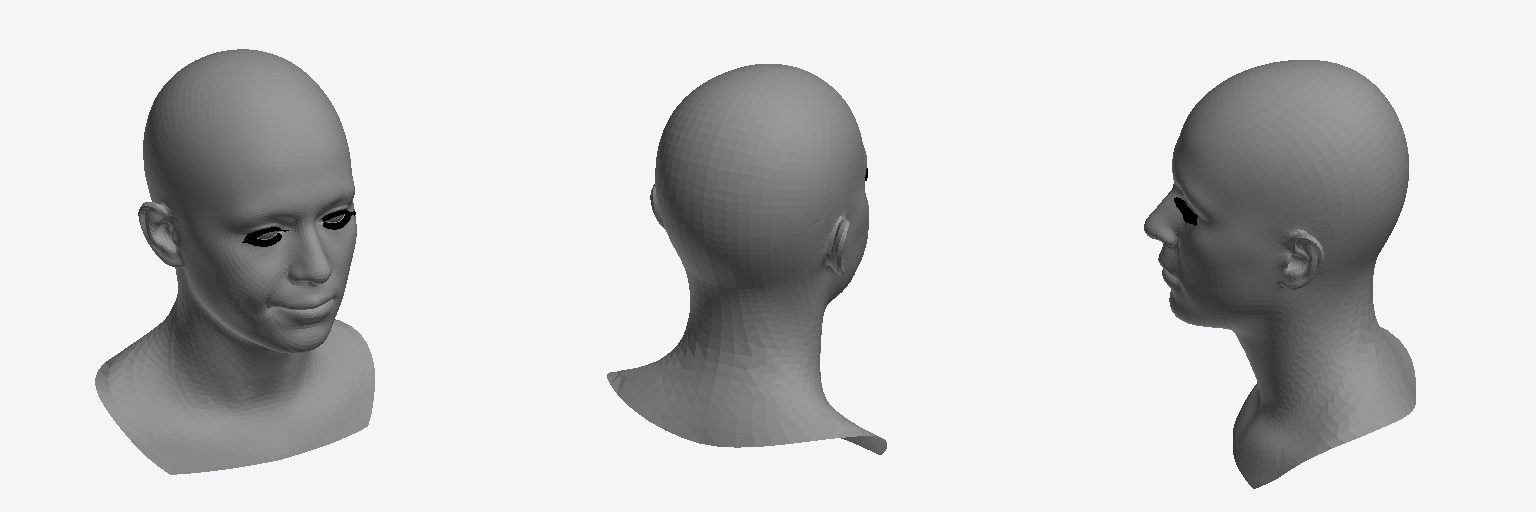
The model's file is mouthDimple_R.obj.
3 renders of one model, left to right at view 1: azimuth 30°, elevation 25°; view 2: azimuth 150°, elevation 25°; view 3: azimuth 270°, elevation 25°, orthographic.
Size of the model in its own units: 24.83 by 33.81 by 22.31.